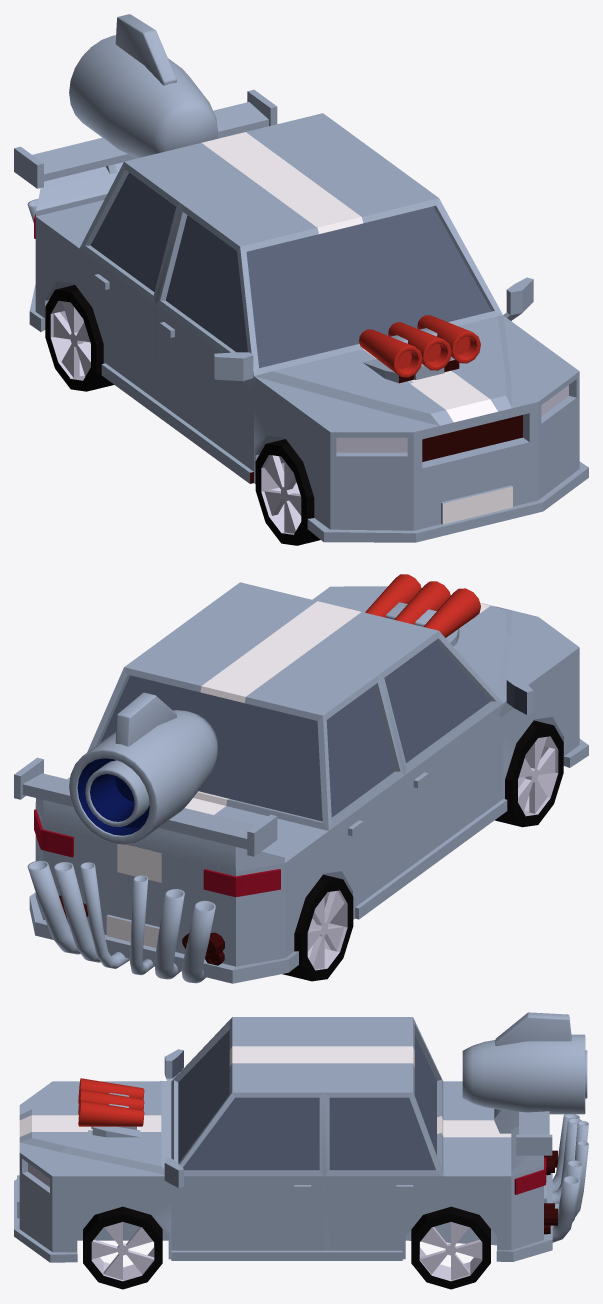
File: car3.fbx
3 views of the same model, one above another, from view 1: azimuth 30°, elevation 25°; view 2: azimuth 150°, elevation 25°; view 3: azimuth 270°, elevation 25° (orthographic). The views are drawn at different scales.
Visible parts, largest first — view 1: bumper3, carcas, bumper, engine3, spoiler3, bumper2, spoiler2, Sedan wheel rear right, Sedan wheel front right, spoiler1, engine2; view 2: bumper3, carcas, bumper, spoiler3, engine3, bumper2, Sedan wheel front right, Sedan wheel rear right, spoiler2, spoiler1; view 3: carcas, bumper3, bumper, engine3, spoiler3, bumper2, Sedan wheel rear left, Sedan wheel front left, spoiler2, spoiler1, engine2.
Boxes of the visible parts, x1,y1,x2,y2 form: bumper3: [27, 172, 588, 542]; carcas: [34, 113, 579, 529]; bumper: [80, 206, 579, 530]; engine3: [254, 315, 579, 432]; spoiler3: [69, 14, 217, 158]; bumper2: [29, 285, 588, 542]; spoiler2: [14, 89, 277, 188]; Sedan wheel rear right: [45, 285, 113, 391]; Sedan wheel front right: [255, 439, 320, 545]; spoiler1: [36, 162, 123, 216]; engine2: [363, 357, 459, 385]; bumper3: [27, 641, 588, 983]; carcas: [34, 582, 579, 957]; bumper: [35, 694, 518, 966]; spoiler3: [69, 692, 217, 844]; engine3: [312, 574, 579, 702]; bumper2: [30, 734, 588, 983]; Sedan wheel front right: [495, 720, 563, 827]; Sedan wheel rear right: [282, 874, 353, 981]; spoiler2: [14, 757, 277, 856]; spoiler1: [36, 798, 284, 871]; carcas: [19, 1017, 546, 1259]; bumper3: [14, 1030, 588, 1262]; bumper: [17, 1057, 550, 1251]; engine3: [19, 1078, 164, 1176]; spoiler3: [462, 1012, 587, 1133]; bumper2: [19, 1150, 557, 1262]; Sedan wheel rear left: [411, 1206, 490, 1289]; Sedan wheel front left: [83, 1206, 162, 1289]; spoiler2: [516, 1111, 552, 1155]; spoiler1: [511, 1126, 543, 1175]; engine2: [88, 1126, 140, 1137].
Size of the model in its own units: 2.81 by 2.45 by 5.64.
